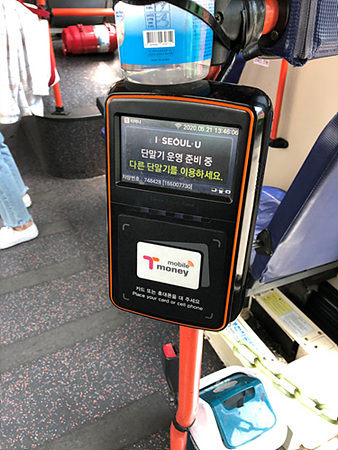terminal: (109, 79, 248, 327)
